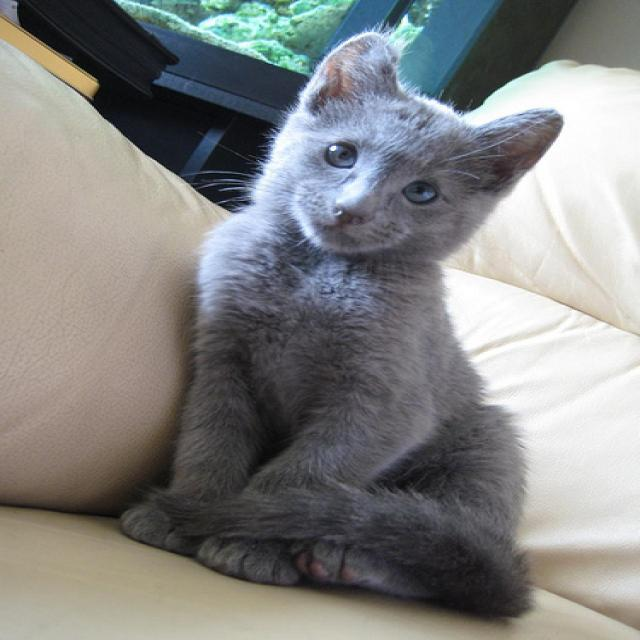Russian_Blue: (288, 31, 560, 250)
